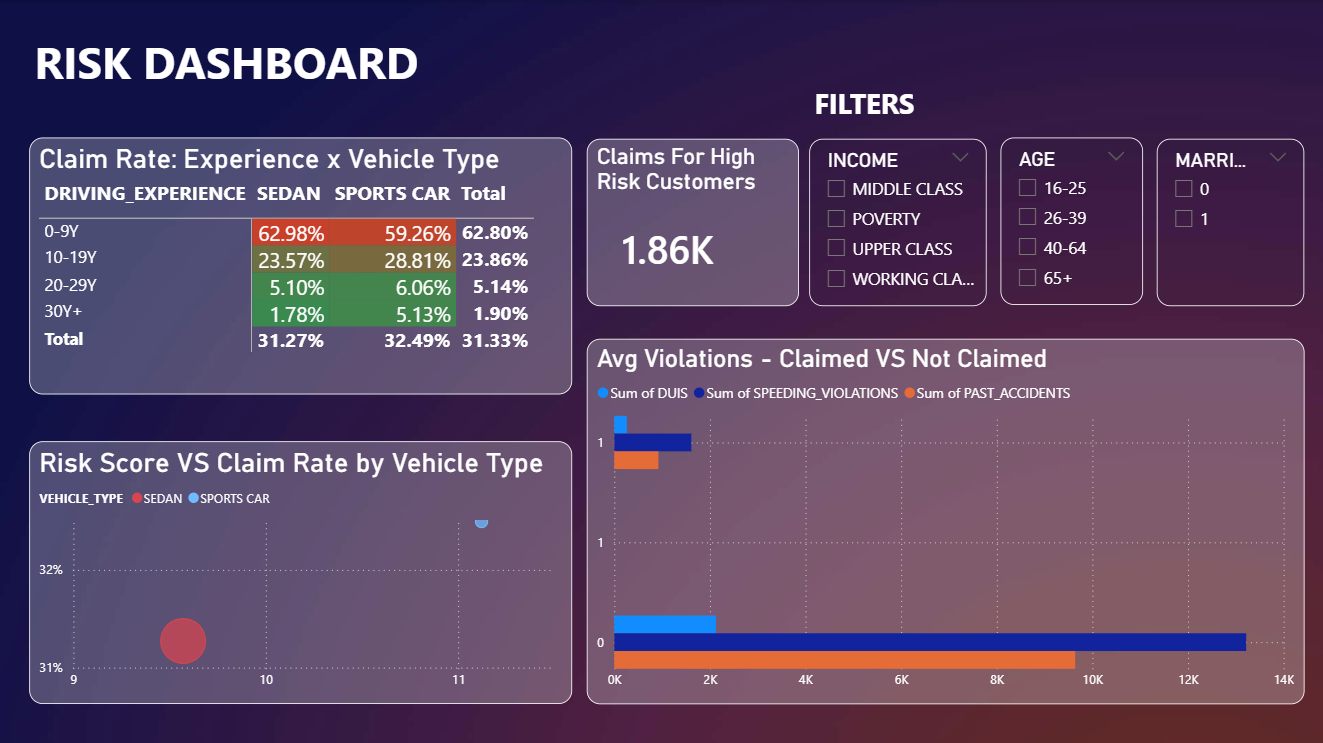

The page's visual inventory and layout, read from the dashboard file:
{"tool":"powerbi","page":{"name":"Risk Deep Dive","canvas":[1280,720],"ordinal":1},"visuals":[{"type":"slicer","fields":{"Values":["car_insurance_clean.MARRIED"]},"box":[1118.4,133.5,142.7,161.9],"z":0},{"type":"slicer","title":"AGE","fields":{"Values":["car_insurance_clean.AGE_BAND"]},"box":[967.4,133.1,137.2,161.9],"z":1000},{"type":"slicer","fields":{"Values":["car_insurance_clean.INCOME"]},"box":[783.5,133.5,171.5,161.9],"z":2000},{"type":"textbox","box":[30.2,25.3,792.6,70],"z":3000},{"type":"textbox","box":[783.5,75.5,193.5,46.7],"z":4000},{"type":"pivotTable","title":"Claim Rate: Experience x Vehicle Type","fields":{"Rows":["car_insurance_clean.DRIVING_EXPERIENCE"],"Columns":["car_insurance_clean.VEHICLE_TYPE"],"Values":["Avg(car_insurance_clean.OUTCOME)"]},"box":[30.2,133.1,524.2,248.4],"z":5000},{"type":"scatterChart","title":"Risk Score VS Claim Rate by Vehicle Type","fields":{"Category":["car_insurance_clean.VEHICLE_TYPE"],"X":["Avg(car_insurance_clean.RISK_SCORE)"],"Y":["Avg(car_insurance_clean.OUTCOME)"],"Series":["car_insurance_clean.VEHICLE_TYPE"],"Size":["CountNonNull(car_insurance_clean.ID)"]},"box":[30.2,425.4,524.2,253.9],"z":6000},{"type":"clusteredBarChart","title":"Avg Violations - Claimed VS Not Claimed","fields":{"Category":["car_insurance_clean.OUTCOME"],"Y":["Sum(car_insurance_clean.DUIS)","Sum(car_insurance_clean.SPEEDING_VIOLATIONS)","Sum(car_insurance_clean.PAST_ACCIDENTS)"]},"box":[568.1,326.6,693,352.7],"z":7000},{"type":"cardVisual","title":"Claims For High Risk Customers","fields":{"Data":["Sum(car_insurance_clean.OUTCOME)"]},"box":[568.1,133.5,204.5,161.9],"z":8000}]}

Visuals, with their boxes in screenshot pixels (x1, y1, x2, y2), scaled from the page's 1280x720 canvas onto the 1323x743 screenshot:
slicer - car_insurance_clean.MARRIED: box=[1156, 138, 1303, 305]
"AGE" slicer: box=[1000, 137, 1142, 304]
slicer - car_insurance_clean.INCOME: box=[810, 138, 987, 305]
textbox: box=[31, 26, 850, 98]
textbox: box=[810, 78, 1010, 126]
"Claim Rate: Experience x Vehicle Type" pivotTable: box=[31, 137, 573, 394]
"Risk Score VS Claim Rate by Vehicle Type" scatterChart: box=[31, 439, 573, 701]
"Avg Violations - Claimed VS Not Claimed" clusteredBarChart: box=[587, 337, 1303, 701]
"Claims For High Risk Customers" cardVisual: box=[587, 138, 799, 305]
